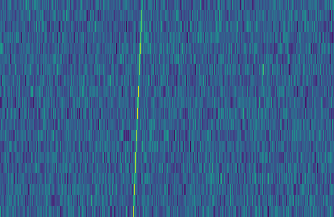signal: (128, 0, 146, 217)
